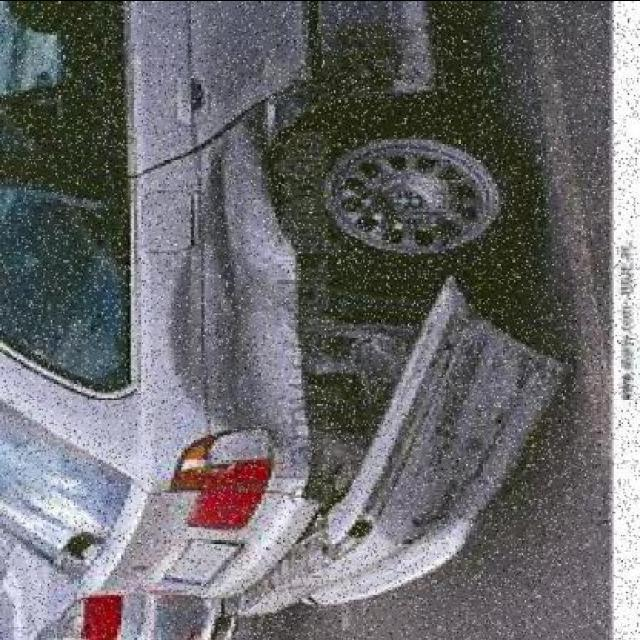quaterpanel-dent: (125, 169, 329, 425)
rear-bumper-dent: (301, 264, 577, 628)
